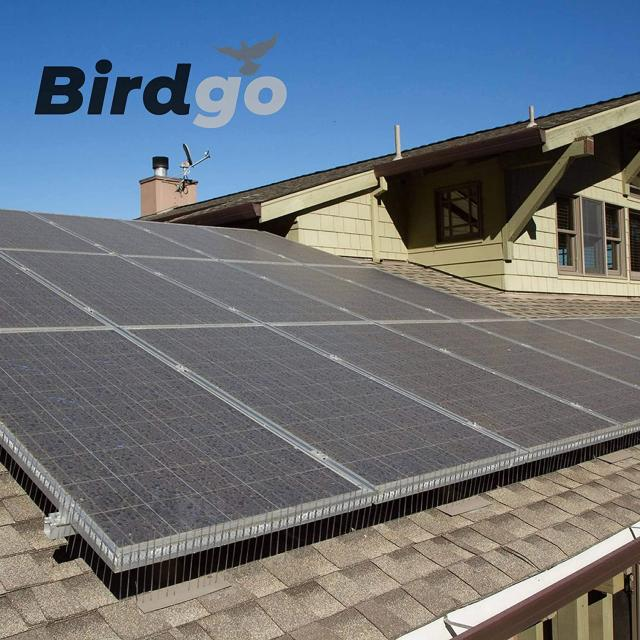dust-solar-panel: (0, 209, 638, 555)
